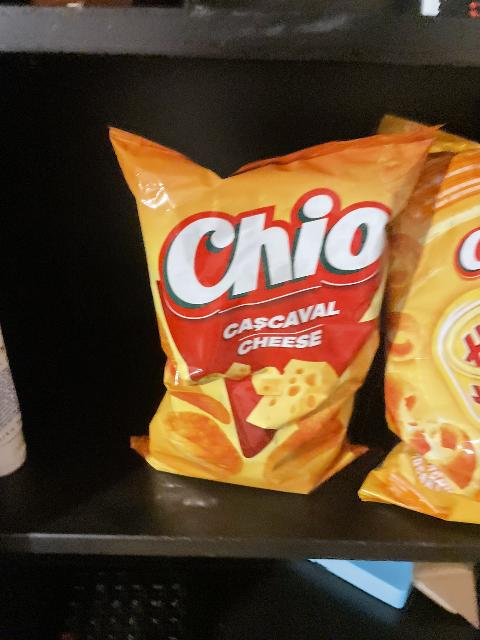Chio Cascaval 125g: (109, 123, 437, 497)
Chio Hula Hoops Cheese 70g: (357, 112, 480, 527)
